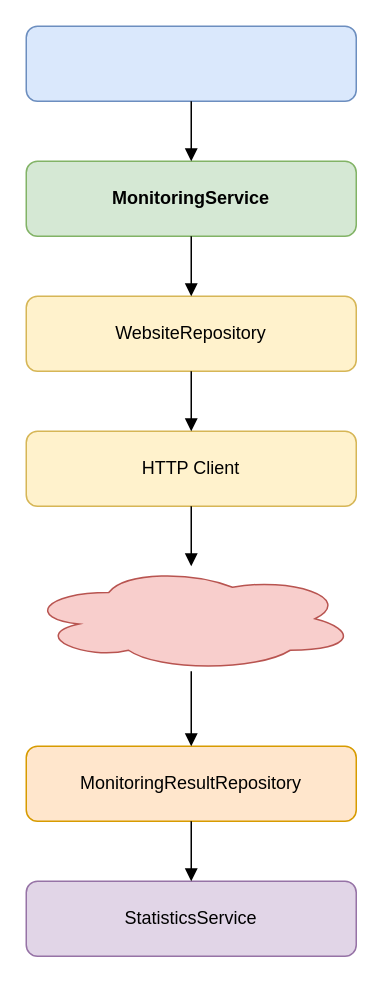
This 383x983 diagram has some shape labels left out. Here are the shapes that lost their labels. From the top down, the centre of each, then its label:
At pixel 190 63: "Cron Scheduler".
At pixel 190 618: "Target Website".
